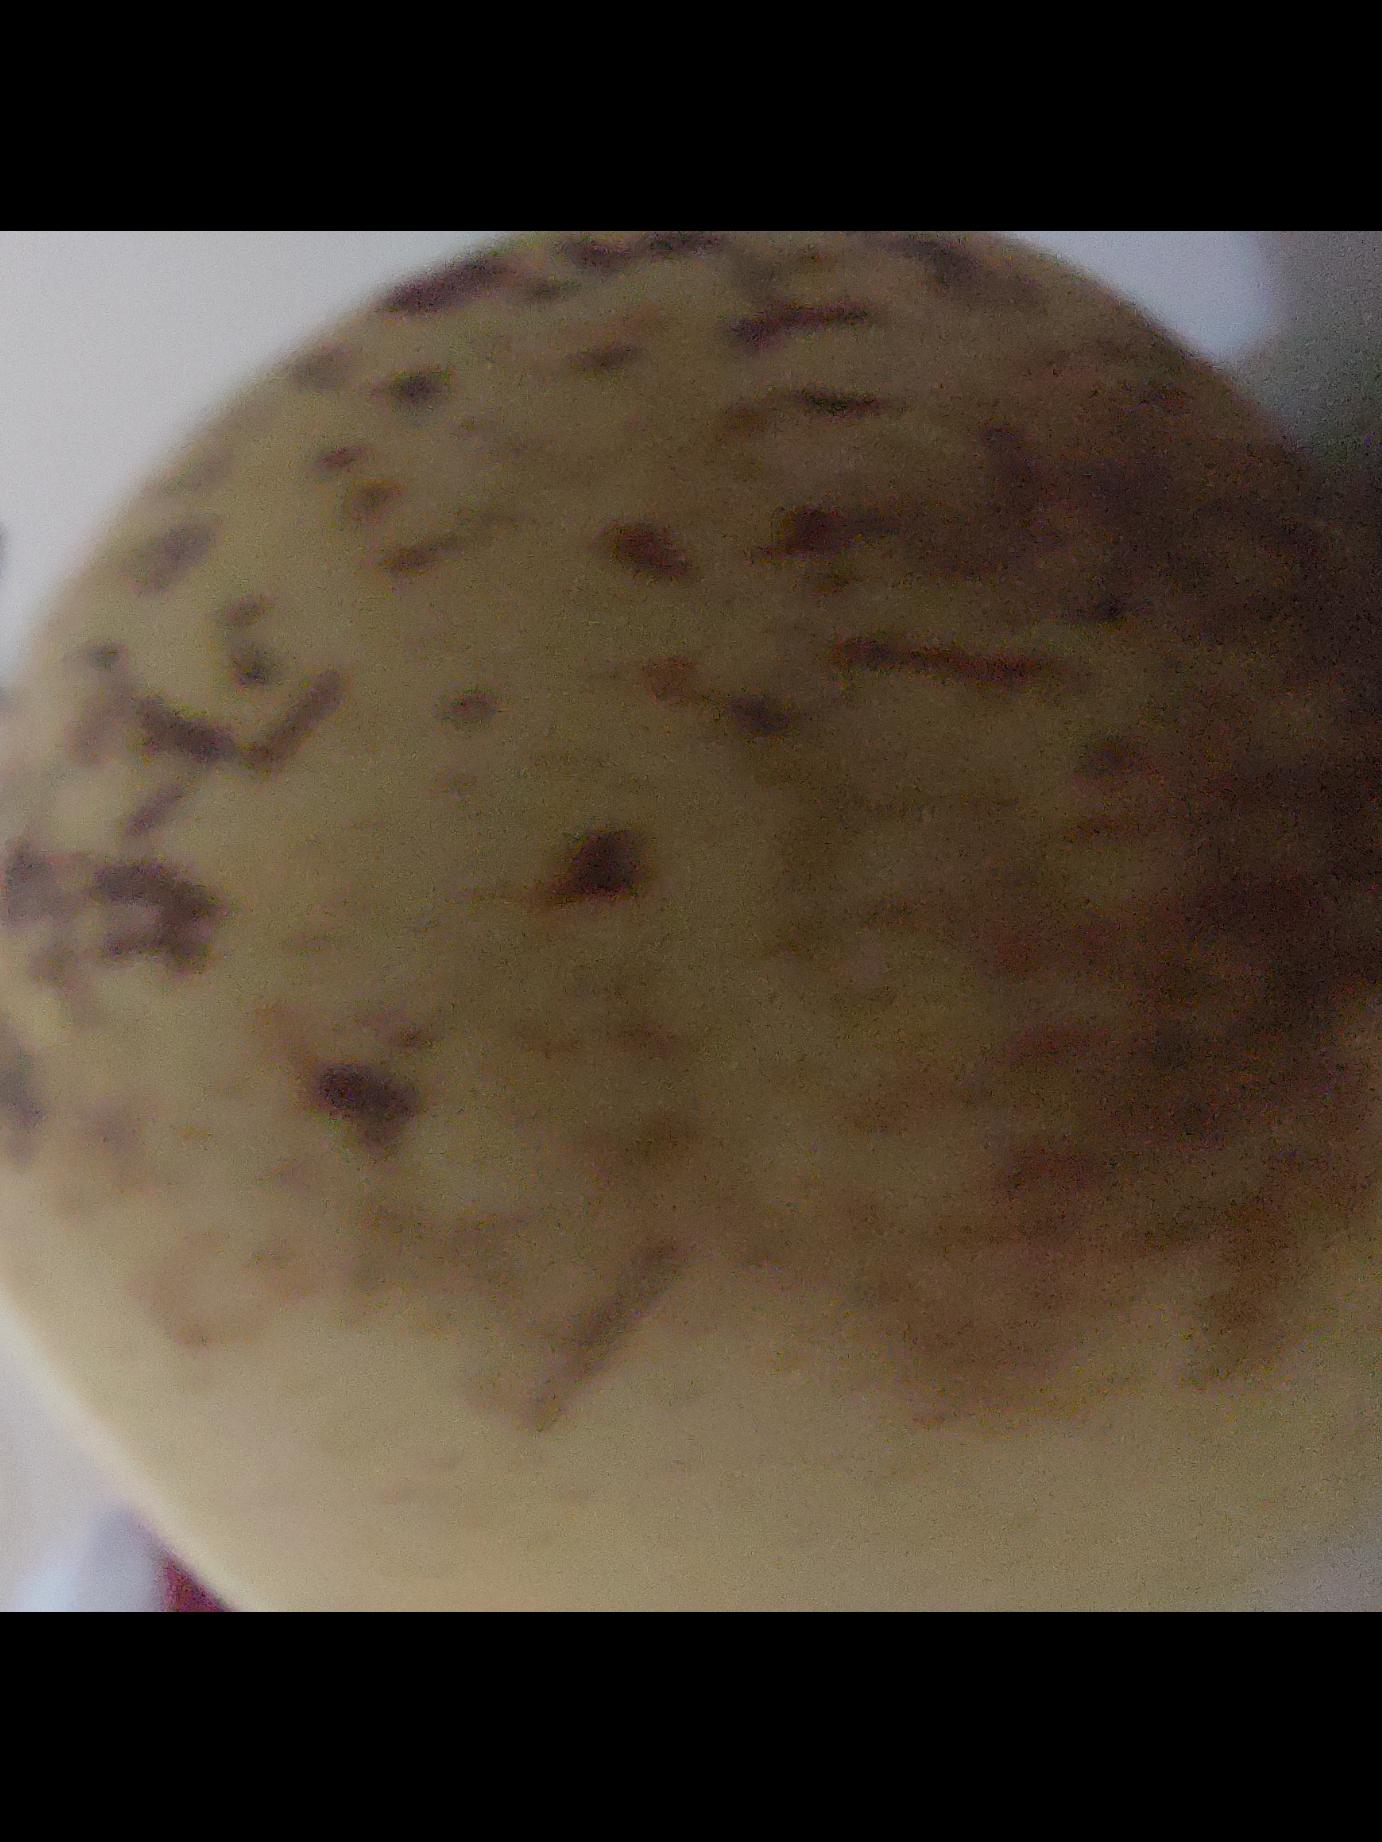Bad Pear: (0, 229, 1382, 1598)
